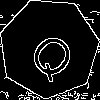Q: (24, 23, 85, 85)
